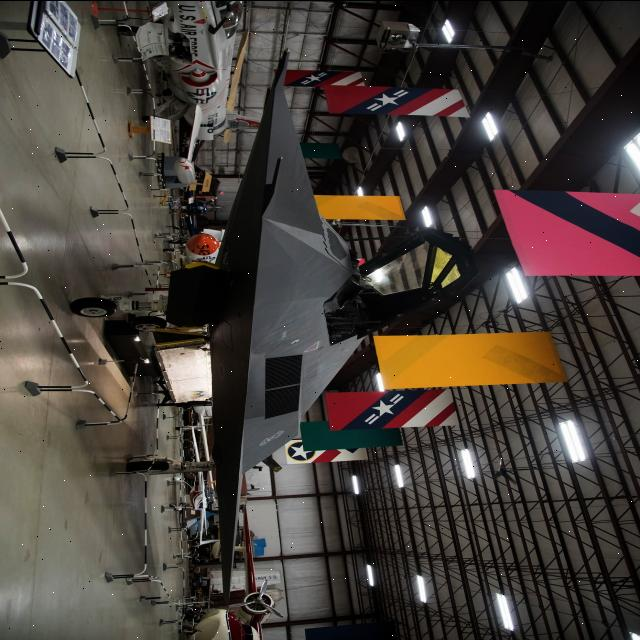F117: (51, 40, 491, 640)
